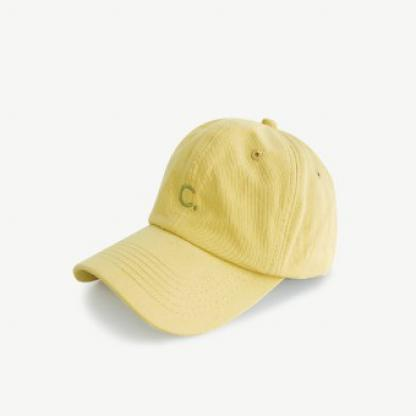cap: (58, 107, 348, 338)
